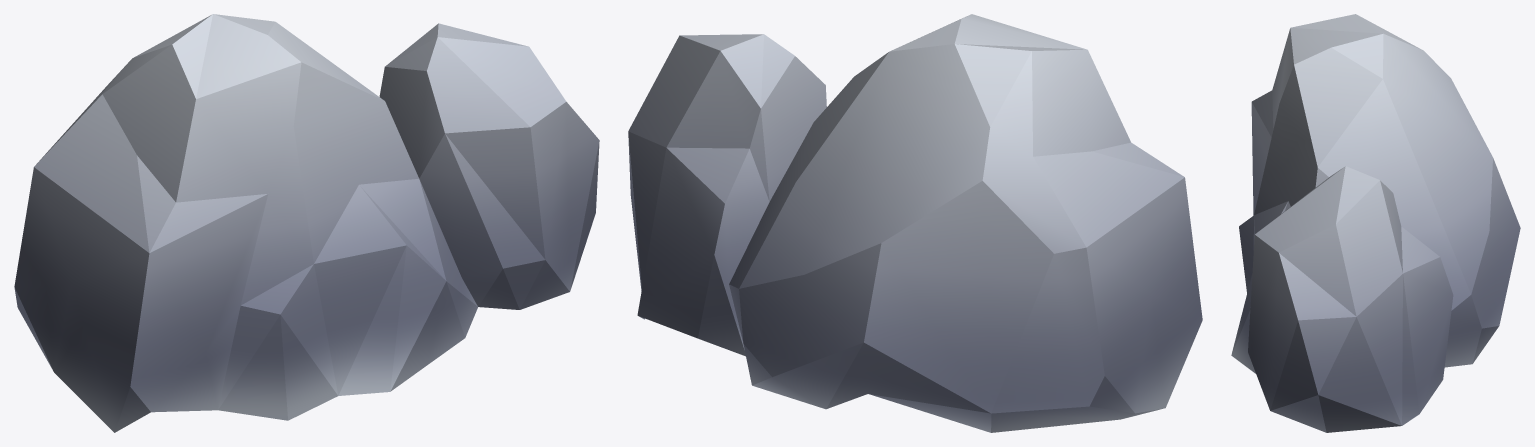
Rendered from Terrain_Stage2_Mountain_2.fbx.
The picture shows the model from 3 angles, left to right: view 1: azimuth 30°, elevation 25°; view 2: azimuth 150°, elevation 25°; view 3: azimuth 270°, elevation 25°; orthographic projection. The views are drawn at different scales.
Parts seen in each view (by area): view 1: terrain_mountain_421_LOD1 #1404615; view 2: terrain_mountain_421_LOD1 #1404615; view 3: terrain_mountain_421_LOD1 #1404615.
Boxes of the visible parts, x1,y1,x2,y2 form: terrain_mountain_421_LOD1 #1404615: (14,14,599,432); terrain_mountain_421_LOD1 #1404615: (628,14,1202,432); terrain_mountain_421_LOD1 #1404615: (1231,14,1520,432).
Size of the model in its own units: 1598 by 1037 by 911.
1 material, 1 textured.
